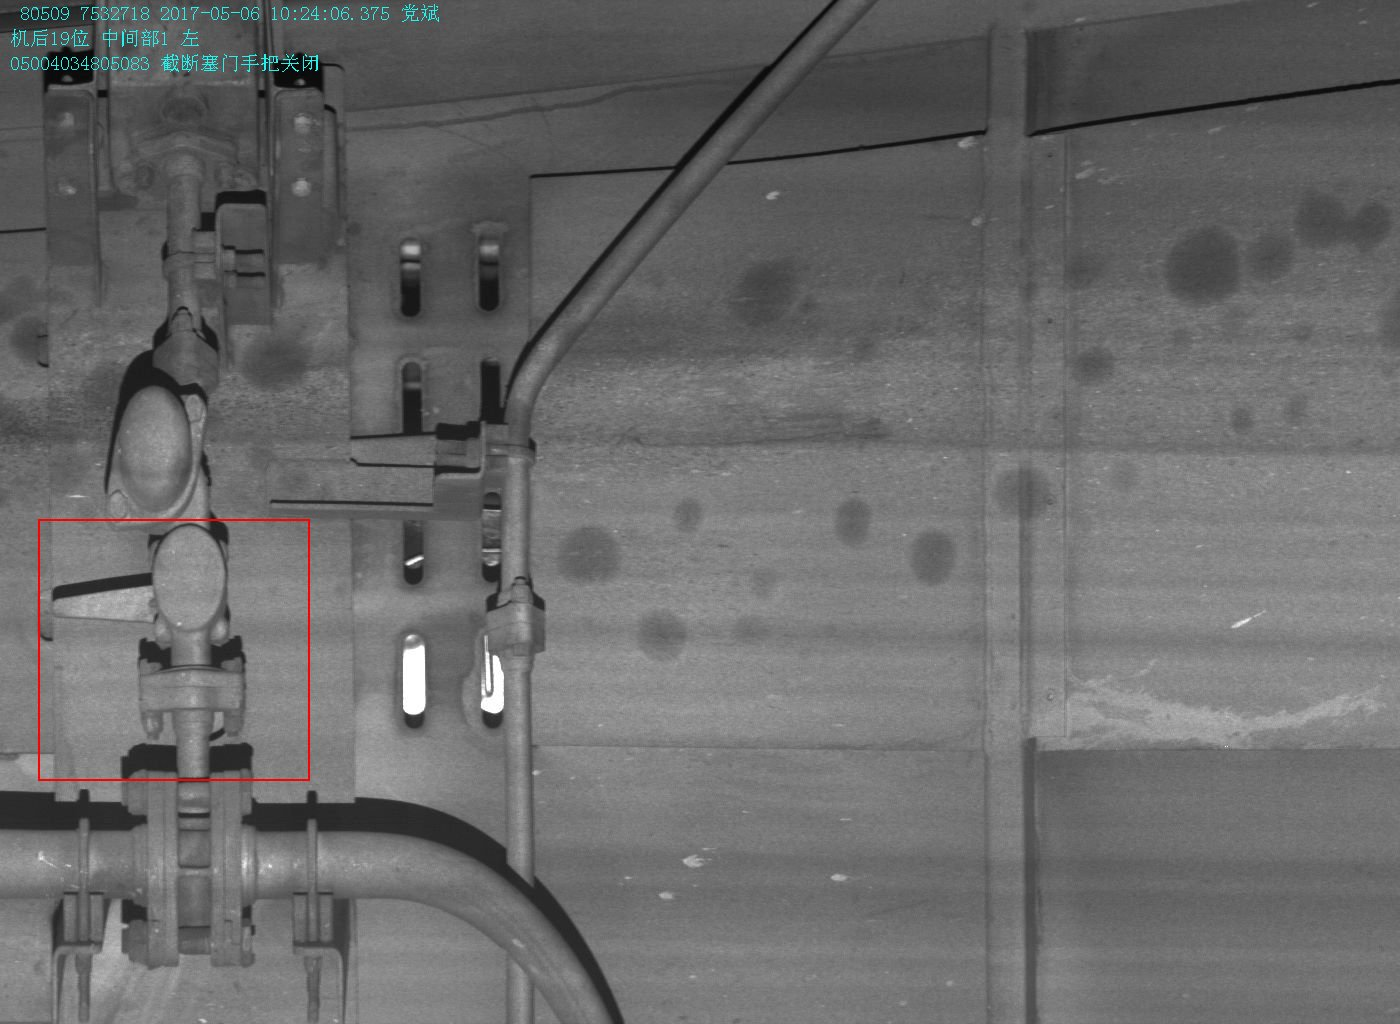truncated plug door handle: (52, 524, 232, 651)
